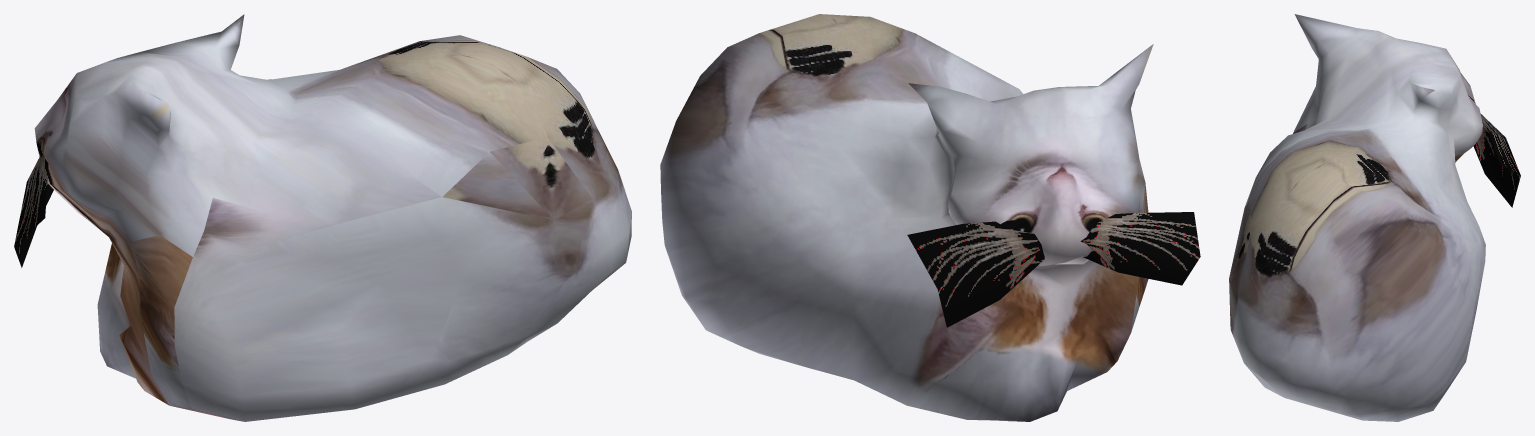
Rendered from valenok.obj.
3 renders of one model, left to right at view 1: azimuth 30°, elevation 25°; view 2: azimuth 150°, elevation 25°; view 3: azimuth 270°, elevation 25°, orthographic. The views are drawn at different scales.
Parts seen in each view (by area): view 1: dingus_dingus_0_dingus_dingus_0.001, dingus_whiskers_0_dingus_whiskers_0.001; view 2: dingus_dingus_0_dingus_dingus_0.001, dingus_whiskers_0_dingus_whiskers_0.001; view 3: dingus_dingus_0_dingus_dingus_0.001, dingus_whiskers_0_dingus_whiskers_0.001.
Boxes of the visible parts, left/top/right/bottom form: dingus_dingus_0_dingus_dingus_0.001: left=34, top=14, right=631, bottom=421; dingus_whiskers_0_dingus_whiskers_0.001: left=14, top=153, right=53, bottom=267; dingus_dingus_0_dingus_dingus_0.001: left=660, top=14, right=1153, bottom=421; dingus_whiskers_0_dingus_whiskers_0.001: left=907, top=212, right=1200, bottom=327; dingus_dingus_0_dingus_dingus_0.001: left=1229, top=14, right=1485, bottom=421; dingus_whiskers_0_dingus_whiskers_0.001: left=1473, top=114, right=1520, bottom=207.
Size of the model in its own units: 1.93 by 1.11 by 1.09.
